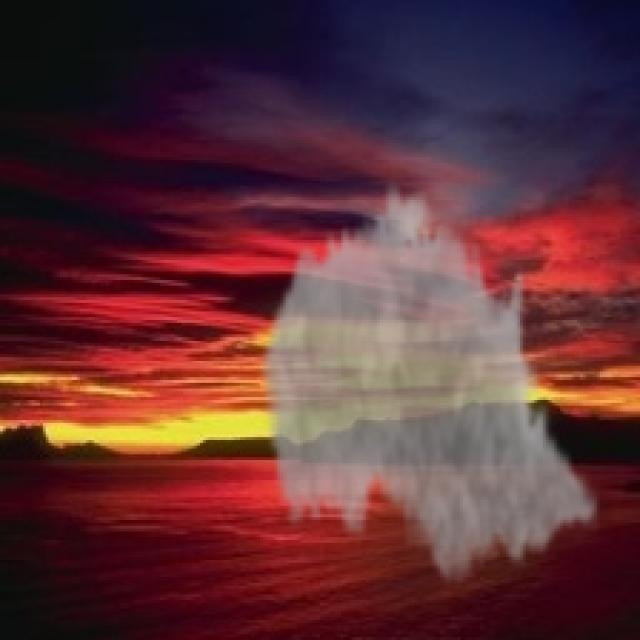smoke: (257, 175, 603, 594)
